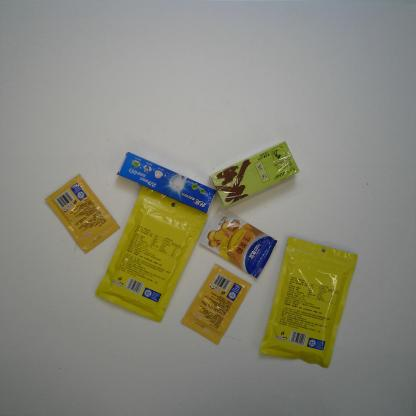Dried Fruit: (93, 185, 210, 323), (257, 235, 360, 370)
Instant Drink: (210, 138, 301, 209)
Personal Hygiene: (115, 150, 216, 216)
Seasoner: (197, 202, 278, 279), (180, 263, 253, 345), (45, 174, 119, 254)
